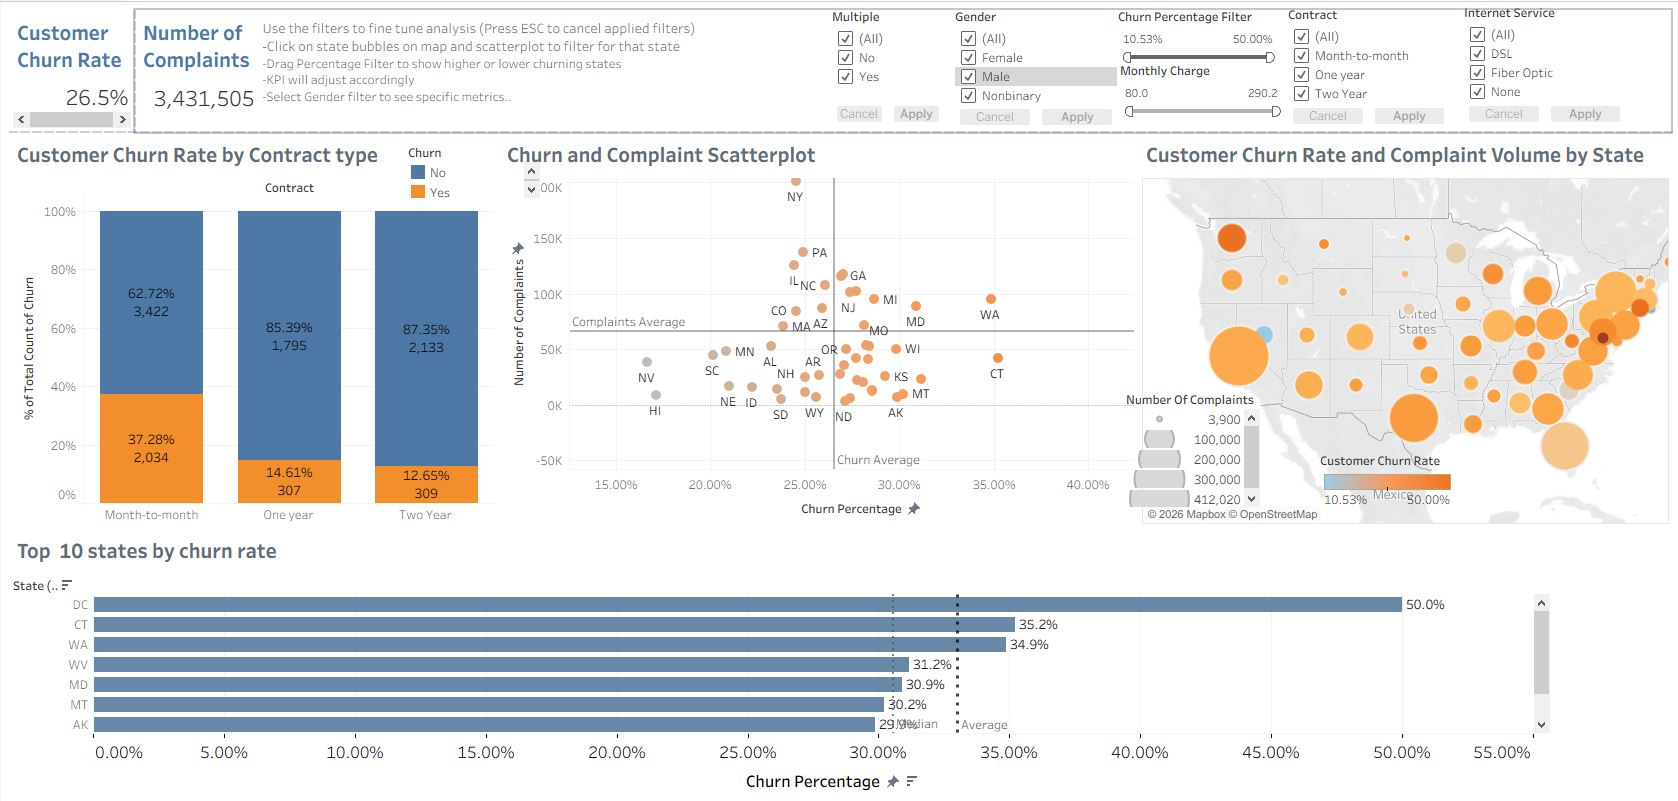

Layout of this report page (visuals, bound fields, positions):
{"tool":"tableau","page":{"name":"Dashboard 1","canvas":[1000,1000],"units":"permille","ordinal":0},"visuals":[{"type":"filter","title":"Customer Churn Rate by Contract type","param":"[federated.1wii12u05cdceo11radmc0qitikq].[none:InternetService:nk]","box":[870.8,2.3,96,149.5]},{"type":"filter","title":"Churn and Complaint Scatterplot ","param":"[federated.1wii12u05cdceo11radmc0qitikq].[none:Contract:nk]","box":[766.1,4.6,96,149.5]},{"type":"filter","title":"Churn and Complaint Volume By State ","param":"[federated.1wii12u05cdceo11radmc0qitikq].[none:Multiple:nk]","box":[494.4,7,66.7,144.8]},{"type":"filter","title":"Churn and Complaint Volume By State ","param":"[federated.1wii12u05cdceo11radmc0qitikq].[none:Gender:nk]","box":[567.6,7,96.5,148.3]},{"type":"filter","title":"Churn and Complaint Volume By State ","param":"[federated.1wii12u05cdceo11radmc0qitikq].[usr:Calculation_4358785778937856:qk]","box":[664.7,7,96,80]},{"type":"worksheet","title":"Customer Churn Rate","mark":"Automatic","box":[4.7,9.3,74.8,121.7]},{"type":"worksheet","title":"Number of Complaints","mark":"Automatic","box":[79.5,9.3,915.9,150.5]},{"type":"text","box":[154.4,12.8,271.6,125.1]},{"type":"filter","title":"Churn and Complaint Scatterplot ","param":"[federated.1wii12u05cdceo11radmc0qitikq].[none:MonthlyCharge:qk]","box":[665.9,74.2,98.3,80]},{"type":"worksheet","title":"Customer Churn Rate by Contract type","mark":"Automatic","cols":["Contract"],"box":[4.7,159.8,286.7,490.2]},{"type":"worksheet","title":"Churn and Complaint Scatterplot ","mark":"Circle","rows":["count_id"],"cols":["Calculation_4358785778937856"],"box":[291.4,159.8,373.9,490.2]},{"type":"worksheet","title":"Churn and Complaint Volume By State ","mark":"Circle","box":[665.3,159.8,330,490.2]},{"type":"legend","title":"Customer Churn Rate by Contract type","param":"[federated.1wii12u05cdceo11radmc0qitikq].[none:Churn:nk]","box":[242.4,176.1,80,67.2]},{"type":"legend","title":"Churn and Complaint Volume By State ","param":"[federated.1wii12u05cdceo11radmc0qitikq].[sum:count_id:qk]","box":[669.4,480.9,80.8,143.7]},{"type":"legend","title":"Churn and Complaint Scatterplot ","param":"[federated.1wii12u05cdceo11radmc0qitikq].[usr:Calculation_4358785778937856:qk]","box":[785.2,556.2,80.2,88.1]},{"type":"worksheet","title":"Top 10 States by Churn rate","mark":"Automatic","rows":["State (churn_clean.csv)"],"cols":["Calculation_4358785778937856"],"box":[4.7,650,990.6,340.8]}]}

Visuals, with their boxes on the dashboard's canvas, which has no fixed pixel size, in thousandths of its width and height (x1, y1, x2, y2). These are canvas units, not pixel positions in the 1678x801 screenshot, which may show the page scaled, cropped or inside an application window:
"Customer Churn Rate by Contract type" filter: (x1=871, y1=2, x2=967, y2=152)
"Churn and Complaint Scatterplot " filter: (x1=766, y1=5, x2=862, y2=154)
"Churn and Complaint Volume By State " filter: (x1=494, y1=7, x2=561, y2=152)
"Churn and Complaint Volume By State " filter: (x1=568, y1=7, x2=664, y2=155)
"Churn and Complaint Volume By State " filter: (x1=665, y1=7, x2=761, y2=87)
"Customer Churn Rate" worksheet: (x1=5, y1=9, x2=80, y2=131)
"Number of Complaints" worksheet: (x1=80, y1=9, x2=995, y2=160)
text: (x1=154, y1=13, x2=426, y2=138)
"Churn and Complaint Scatterplot " filter: (x1=666, y1=74, x2=764, y2=154)
"Customer Churn Rate by Contract type" worksheet: (x1=5, y1=160, x2=291, y2=650)
"Churn and Complaint Scatterplot " worksheet (Circle marks): (x1=291, y1=160, x2=665, y2=650)
"Churn and Complaint Volume By State " worksheet (Circle marks): (x1=665, y1=160, x2=995, y2=650)
"Customer Churn Rate by Contract type" legend: (x1=242, y1=176, x2=322, y2=243)
"Churn and Complaint Volume By State " legend: (x1=669, y1=481, x2=750, y2=625)
"Churn and Complaint Scatterplot " legend: (x1=785, y1=556, x2=865, y2=644)
"Top 10 States by Churn rate" worksheet: (x1=5, y1=650, x2=995, y2=991)
